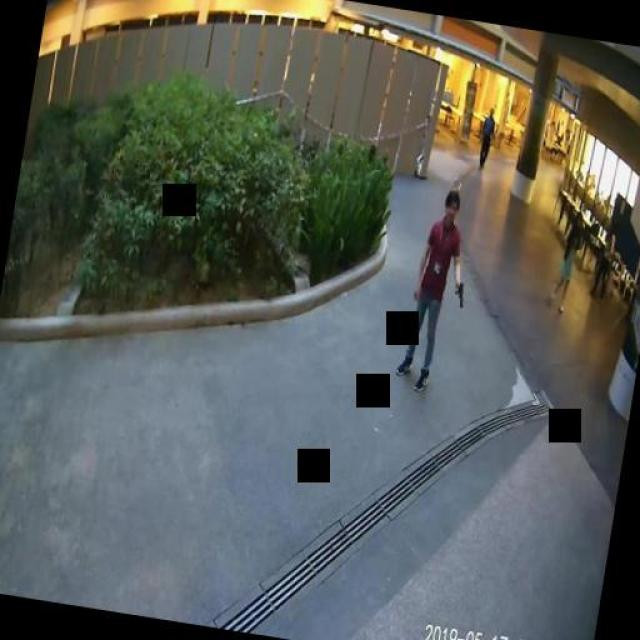gun: (450, 282, 464, 308)
